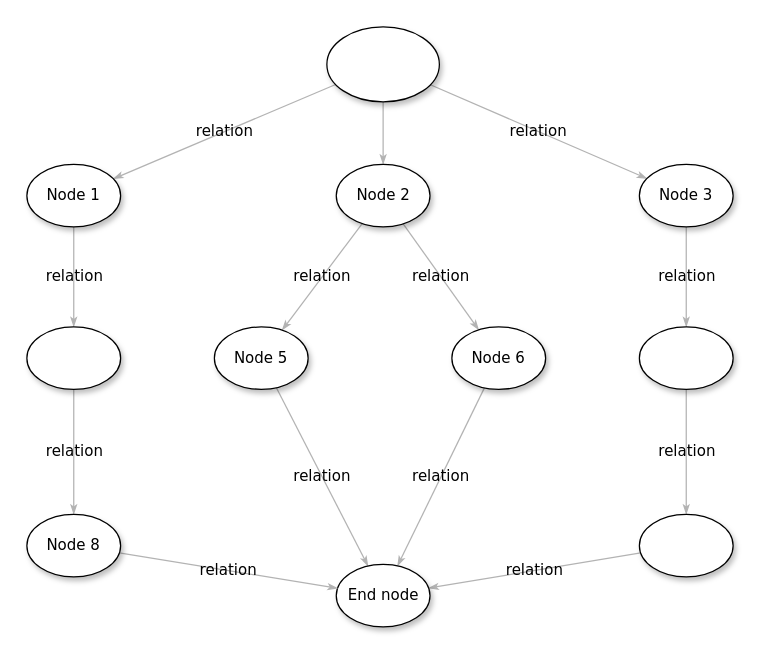
Some shapes in this 763 by 658 pixel diagram are drawn without their labels. The centre of each missing label's shape, as x and y in pixels:
"Node 4" goes at (74,359).
"Node 7" goes at (687,359).
"Node 9" goes at (687,547).
"Starting node" goes at (384,66).
